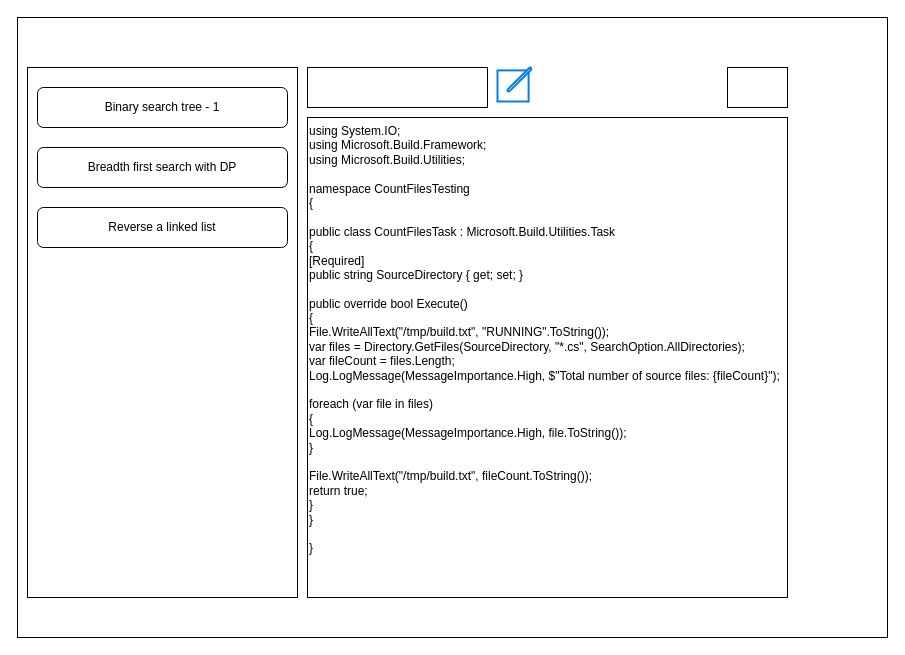
Image size: 905x655. Some labels were removed from this diagram. Here are the shapes that lost their labels. From the top down, the centre of each, then its label:
At point (397, 87): "Name input".
At point (757, 87): "Save".
